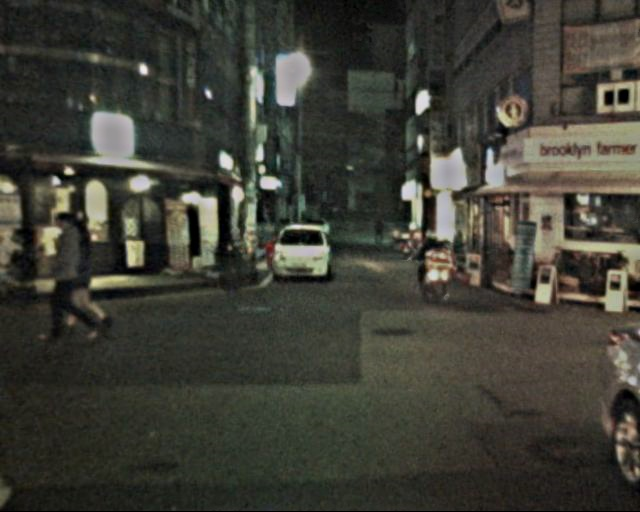person: (40, 212, 98, 341), (415, 231, 448, 305)
